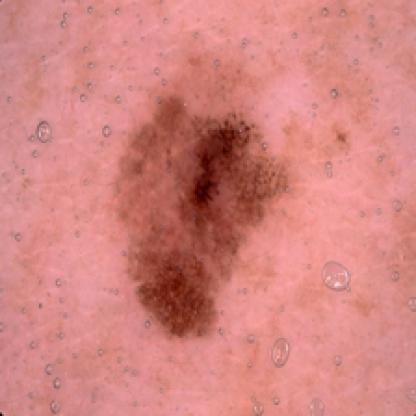malignant: (126, 93, 275, 338)
